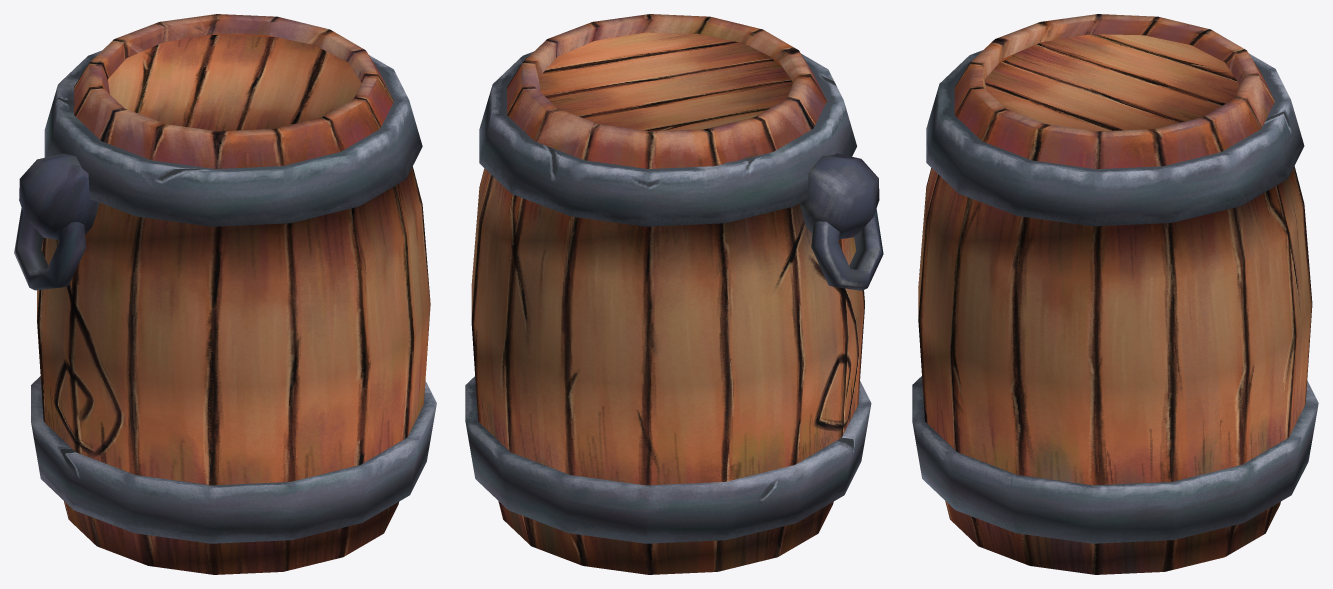
File: BarrilHPAcabado.fbx
3 renders of one model, left to right at view 1: azimuth 30°, elevation 25°; view 2: azimuth 150°, elevation 25°; view 3: azimuth 270°, elevation 25°, orthographic.
Parts seen in each view (by area): view 1: Cylinder; view 2: Cylinder; view 3: Cylinder.
Part boxes in pixels (x1,y1,x2,y2): Cylinder: (14, 14, 436, 574); Cylinder: (465, 14, 883, 574); Cylinder: (912, 14, 1318, 574).
Bounding box in the file's own units: 266 × 284 × 244.
Materials: 1 (1 with a texture image).
